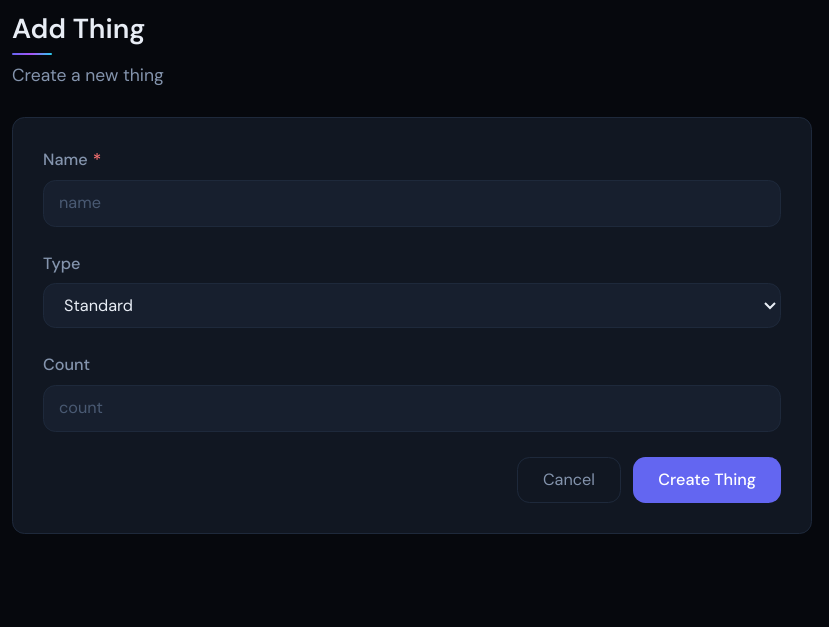
EntityFormPage › renders the error banner when the POST fails and stays on the page
The width and height of the screenshot is (829, 627).
Fill the required field so native form validation lets submit through
Type "Thing1" into the field labelled "Name * (required)" at (412, 203), box [43,180,781,226]
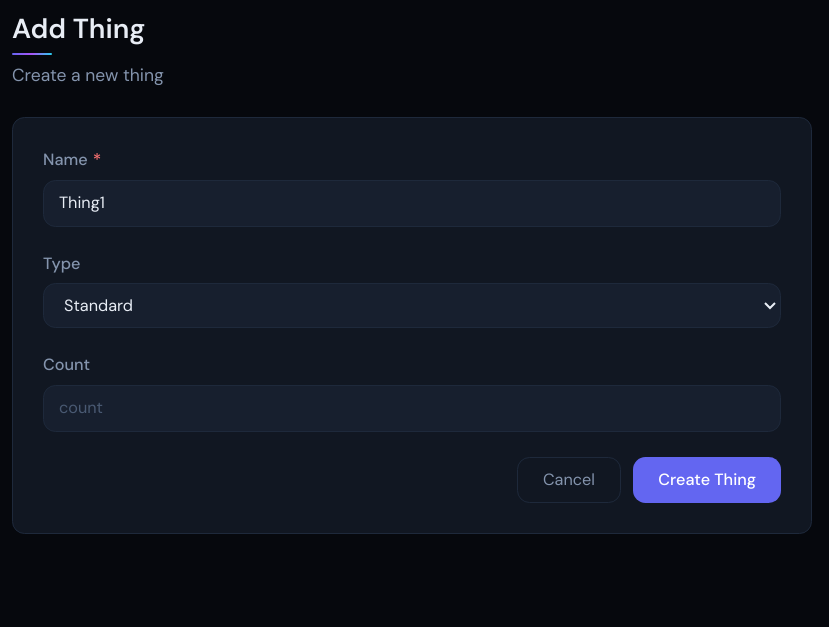
Click the button "Create Thing" at (707, 480), box [633,457,781,503]
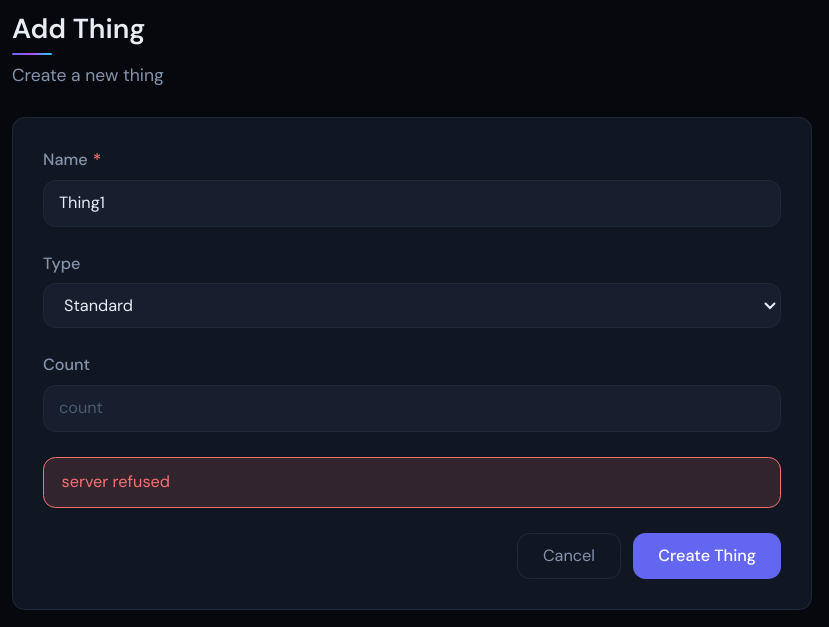
expect the message reads "server refused": met, box [62,471,170,492]
